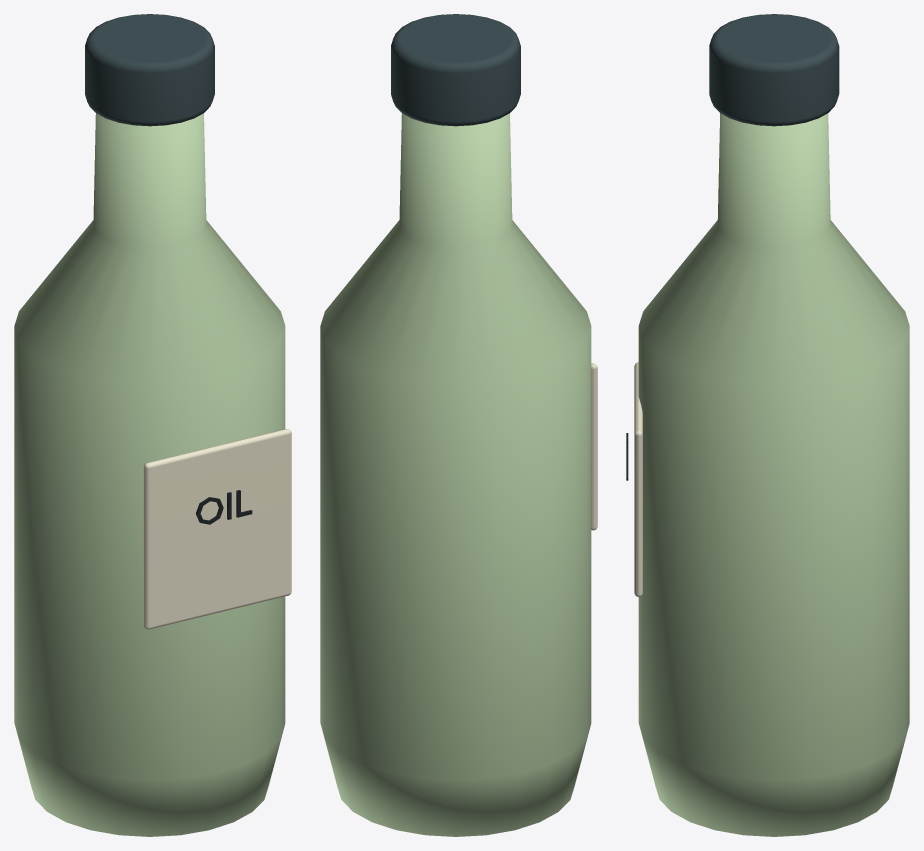
File: HotelTogether-OilBottle.glb
3 renders of one model, left to right at view 1: azimuth 30°, elevation 25°; view 2: azimuth 150°, elevation 25°; view 3: azimuth 270°, elevation 25°, orthographic.
Visible parts, largest first — view 1: Oil_Bottle, Oil_Label, Oil_Cap, Oil_Word; view 2: Oil_Bottle, Oil_Cap, Oil_Label; view 3: Oil_Bottle, Oil_Cap, Oil_Label.
Part boxes in pixels (bbox=[...]): Oil_Bottle: bbox=[14, 113, 285, 836]; Oil_Label: bbox=[143, 429, 291, 629]; Oil_Cap: bbox=[85, 14, 214, 126]; Oil_Word: bbox=[196, 490, 252, 524]; Oil_Bottle: bbox=[320, 113, 591, 836]; Oil_Cap: bbox=[391, 14, 520, 126]; Oil_Label: bbox=[591, 363, 597, 530]; Oil_Bottle: bbox=[638, 113, 909, 836]; Oil_Cap: bbox=[709, 14, 839, 126]; Oil_Label: bbox=[634, 362, 642, 597].
Bounding box in the file's own units: 0.096 × 0.2925 × 0.1004.
